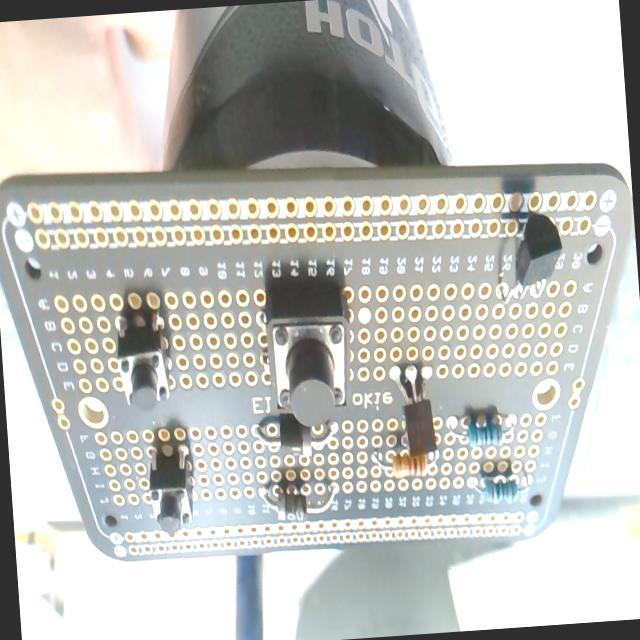diode: (252, 409, 336, 456), (258, 478, 338, 526)
resistor: (372, 436, 433, 482), (466, 412, 504, 450), (484, 478, 518, 506)
switch: (261, 281, 356, 426), (114, 306, 174, 413), (144, 442, 198, 534)
transistor: (493, 207, 568, 311), (396, 365, 438, 465)
